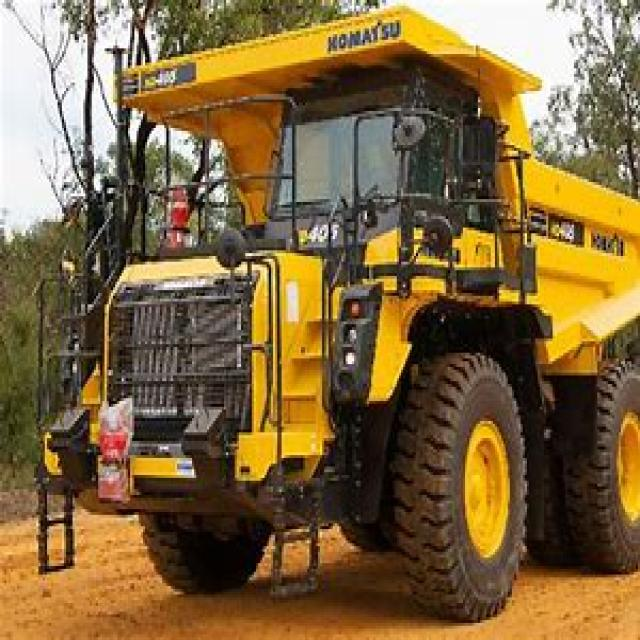dump_truck: (32, 34, 636, 592)
